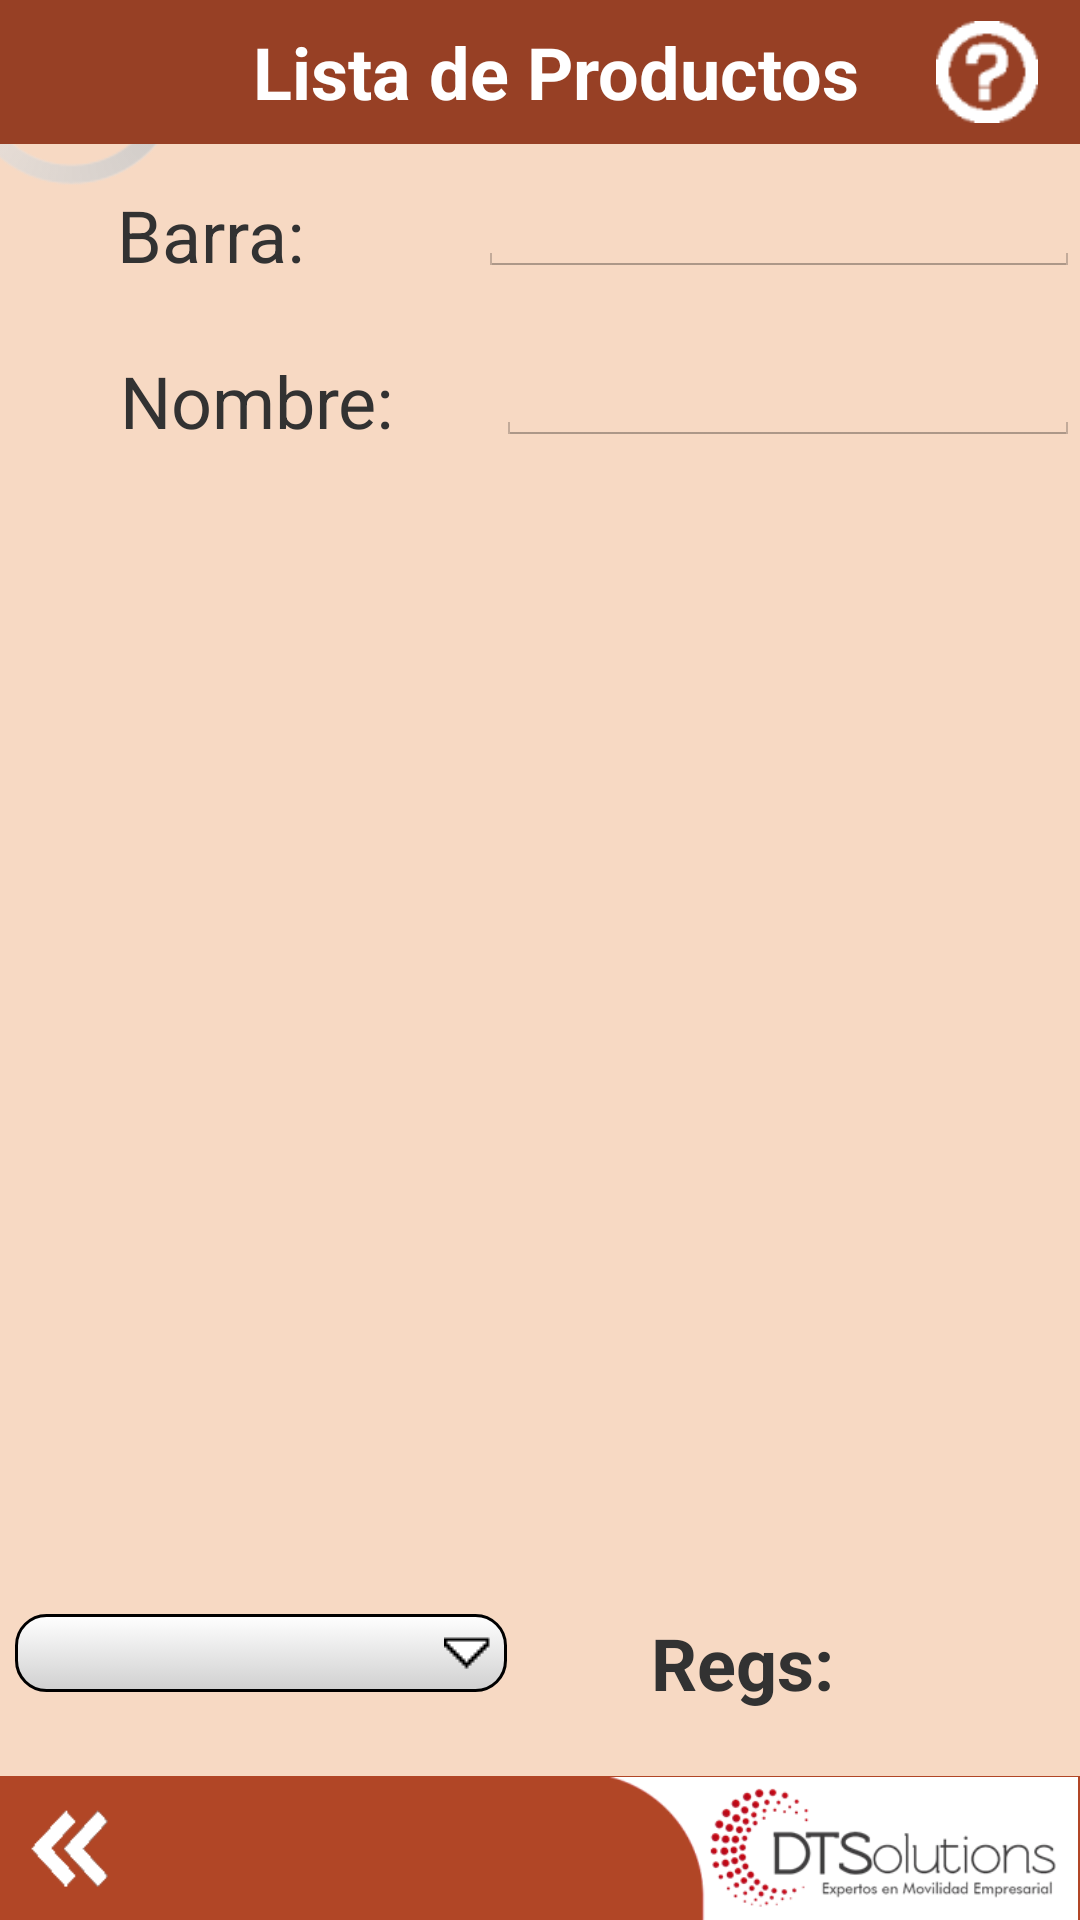

Screen size 1080 × 1920. Icon name, then its box in pixels as [left=x1, top=y1, right=x2, bottom=y2]:
arr prev: [left=31, top=1810, right=108, bottom=1887]
help: [left=936, top=21, right=1038, bottom=123]
